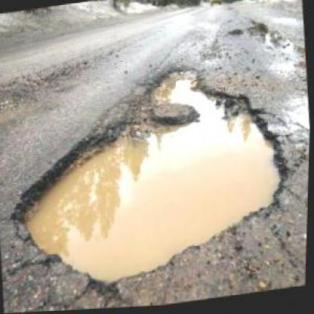Hueco: (0, 51, 301, 303)
